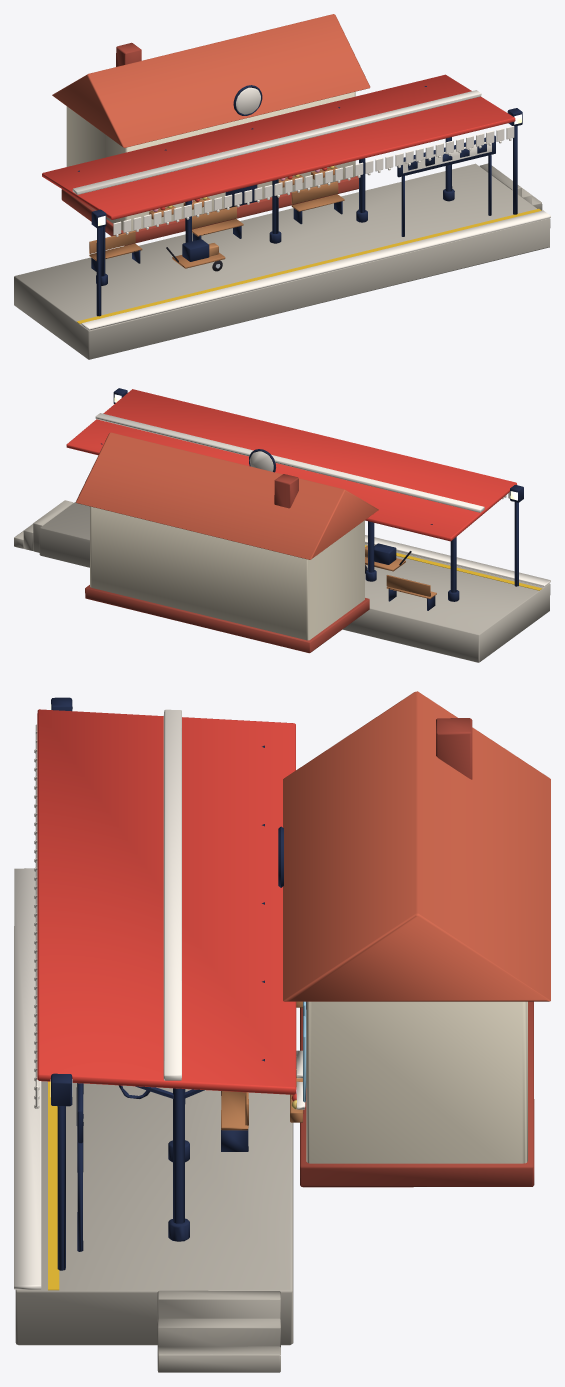
File: station.glb
3 views of the same model, one above another, from view 1: azimuth 30°, elevation 25°; view 2: azimuth 150°, elevation 25°; view 3: azimuth 270°, elevation 25° (orthographic). The views are drawn at different scales.
Parts seen in each view (by area): view 1: station; view 2: station; view 3: station.
Boxes of the visible parts, x1,y1,x2,y2 form: station: (14,14,550,359); station: (14,388,550,662); station: (14,691,550,1372).
Size of the model in its own units: 17.04 by 6.19 by 8.69.
Materials: 1 (1 with a texture image).
